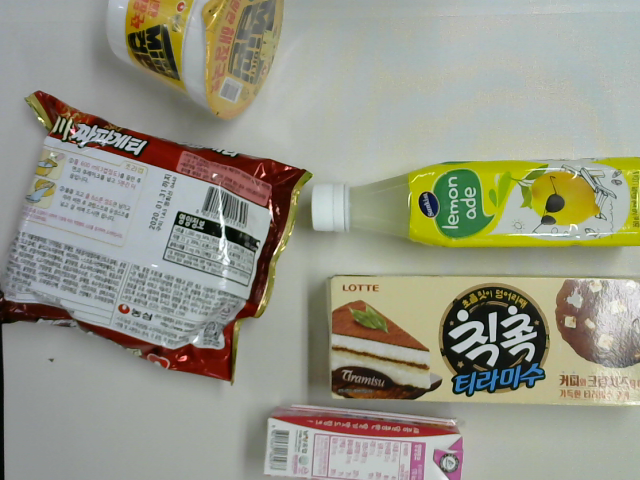Chicchok_Tiramisu: (326, 271, 640, 409)
Hejangmini: (102, 1, 288, 125)
Sichuan_Chapaghetti: (1, 89, 314, 392)
Strawberry_E_Mong: (260, 402, 461, 480)
Sunkist_Lemonaid_Pet: (308, 150, 640, 253)
